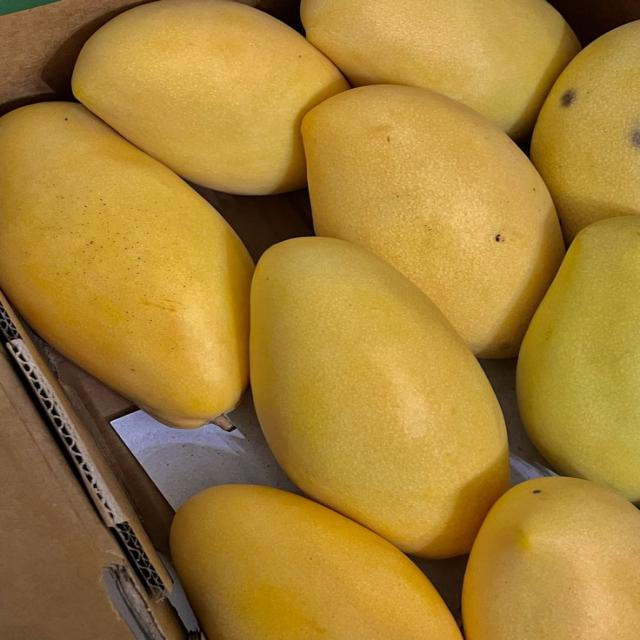mango: (250, 238, 508, 557), (0, 103, 253, 427), (302, 86, 564, 357), (73, 0, 348, 194), (171, 485, 461, 639), (301, 0, 579, 138), (517, 216, 639, 501), (463, 477, 639, 639), (531, 21, 639, 242)
